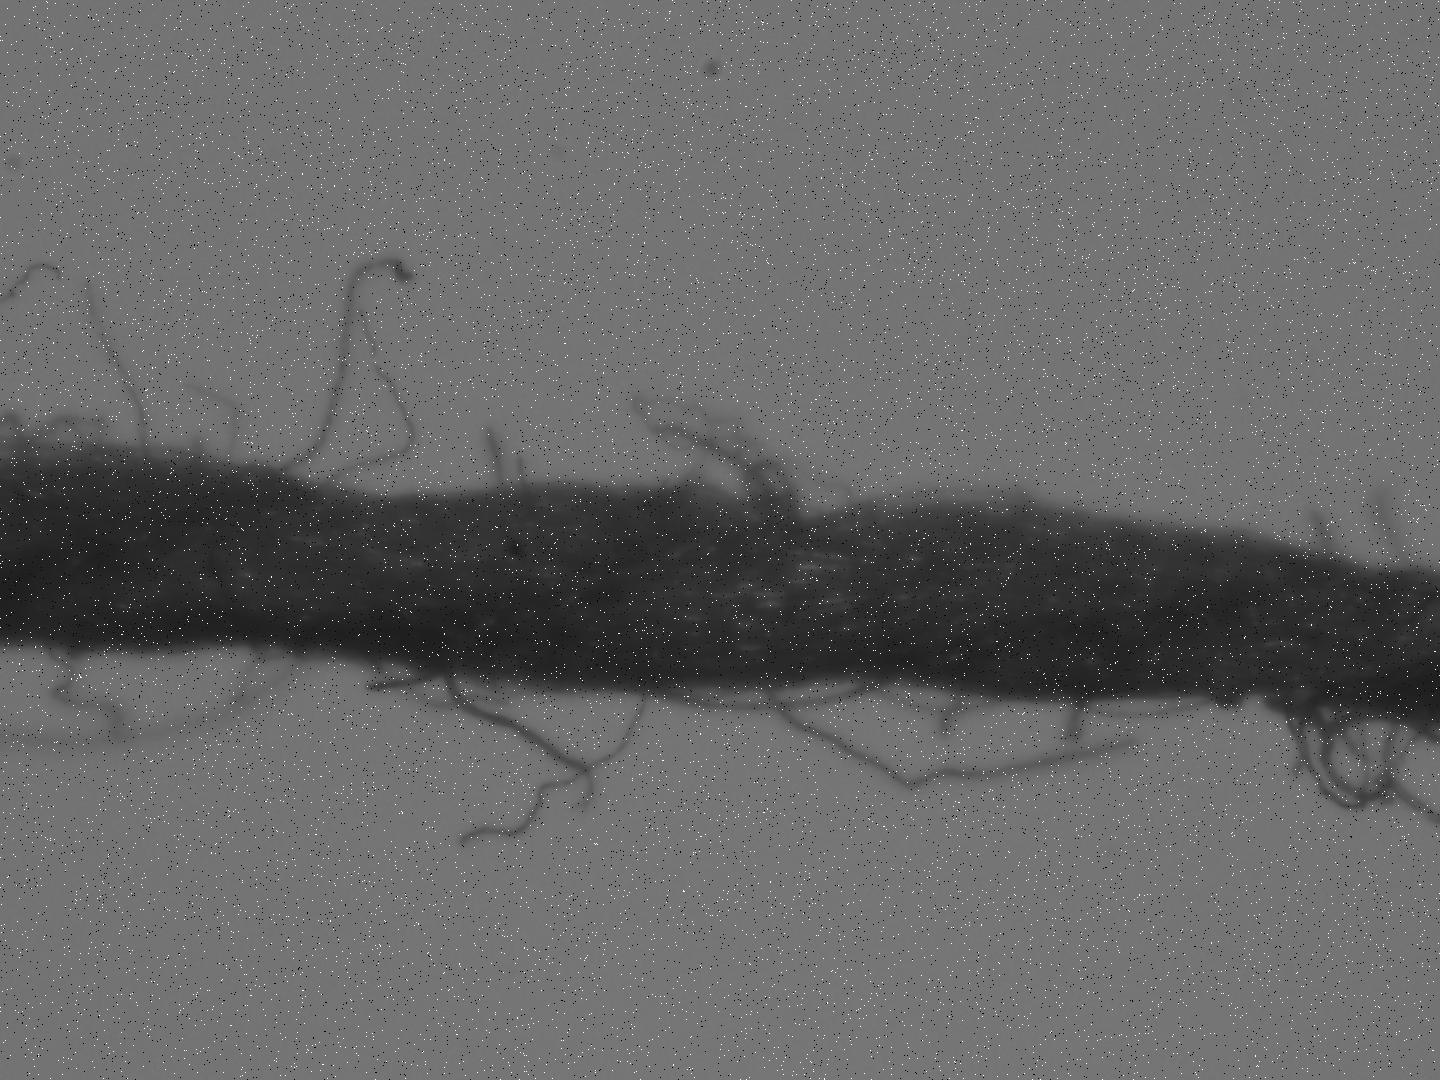loop_fiber: (629, 393, 874, 534), (39, 639, 327, 746), (1256, 683, 1440, 829), (635, 682, 1016, 727), (1067, 695, 1218, 724), (1, 411, 102, 450)
protruding_fiber: (755, 684, 1143, 799), (254, 262, 416, 480), (455, 686, 646, 858), (306, 303, 425, 496), (440, 670, 600, 813), (84, 271, 159, 467), (181, 379, 244, 467), (482, 423, 506, 493)
